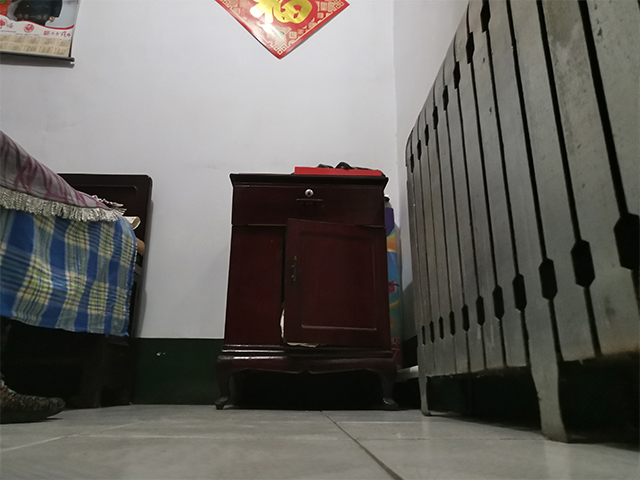bed: (1, 131, 154, 410)
cabinet: (210, 172, 402, 411)
